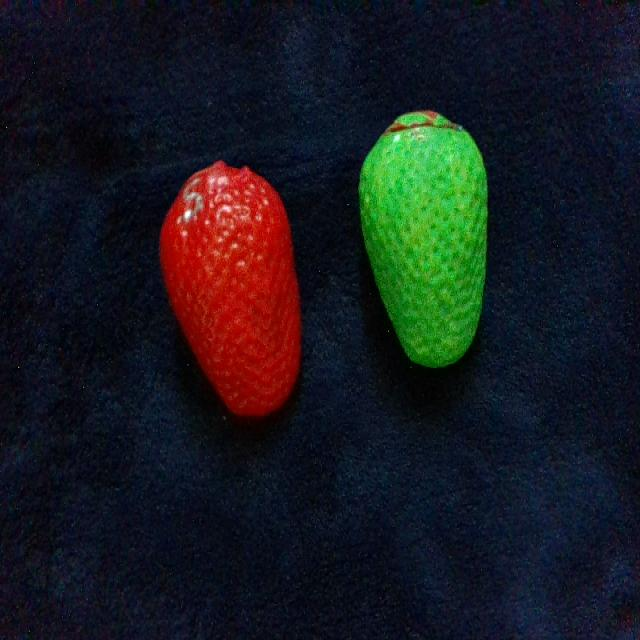grande_roja: (160, 161, 300, 416)
verde: (360, 113, 487, 367)
